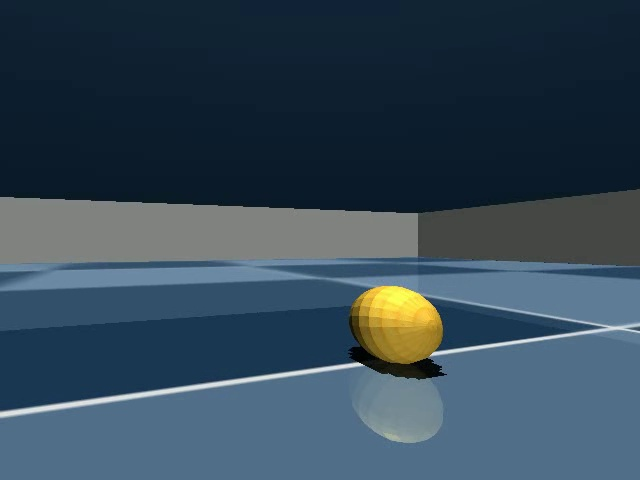lemon: (339, 279, 453, 377)
